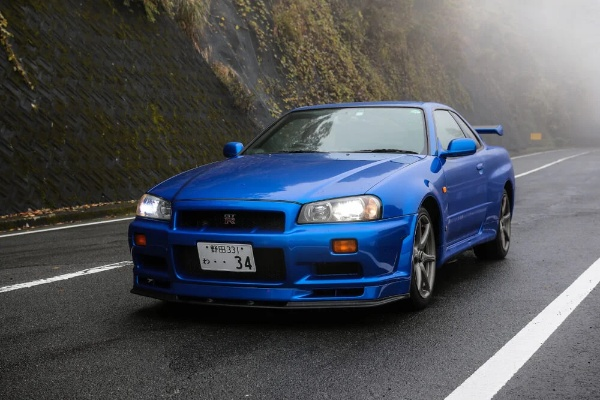licence: (194, 238, 261, 272)
